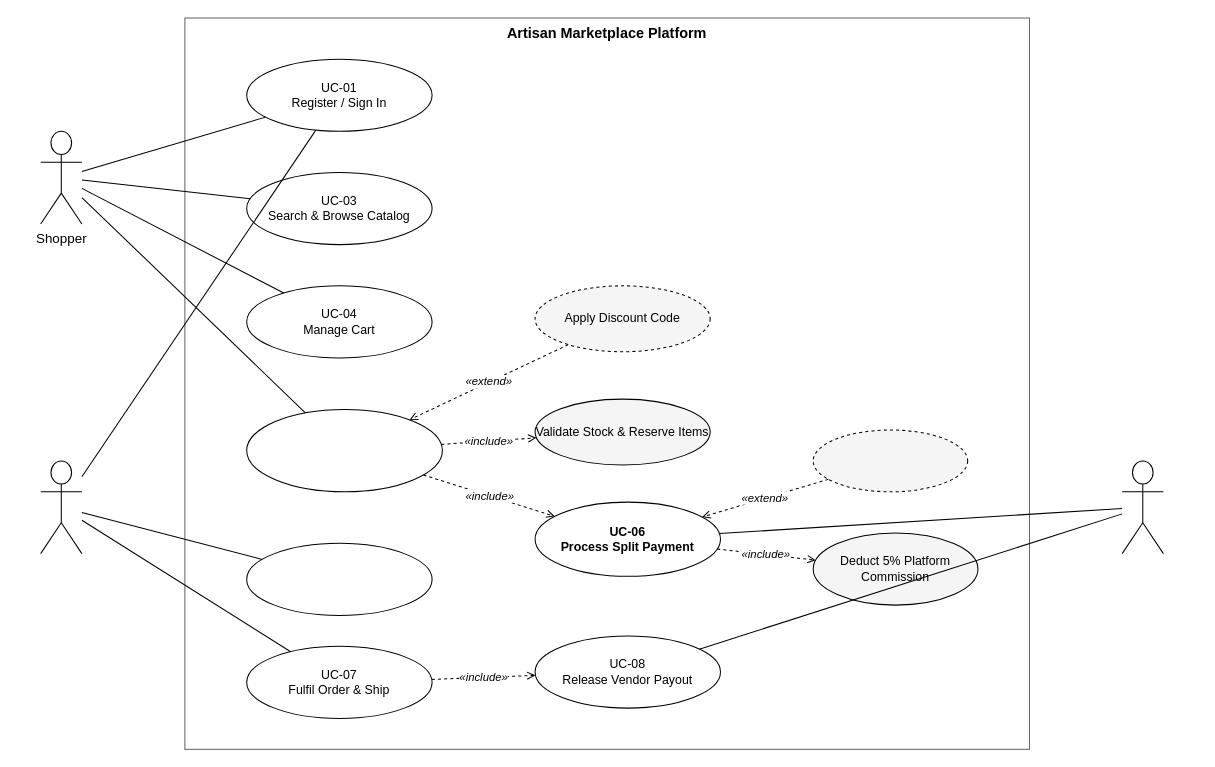
Image size: 1215x767. Some labels were removed from this diagram. The centre of each missing label's shape, as x and y in pixels:
"Artisan Vendor" goes at pixel 61 507.
"Payment Gateway" goes at pixel 1142 507.
"Retry Payment" goes at pixel 890 460.
"UC-02 Manage Storefront & Listings" goes at pixel 339 578.
"UC-05 Checkout & Place Order" goes at pixel 344 450.
